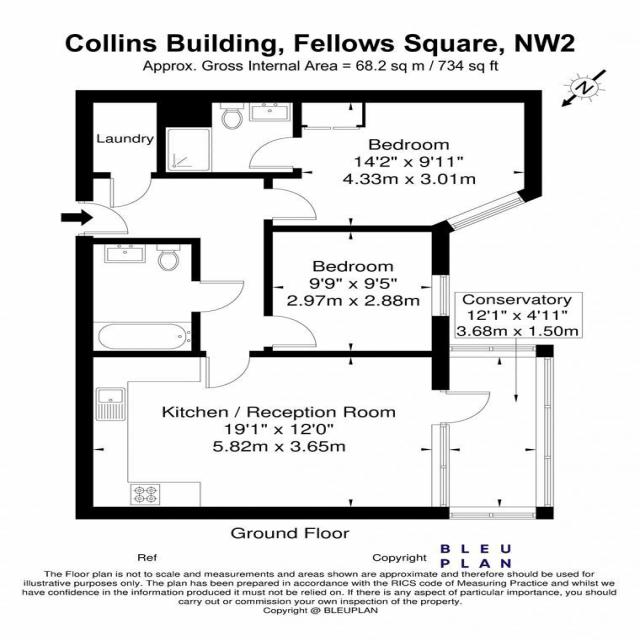DOOR: (431, 387, 494, 425), (262, 184, 321, 224), (200, 350, 258, 390), (190, 279, 247, 315), (246, 135, 304, 169), (263, 314, 319, 348), (106, 171, 155, 208)
ROOM: (75, 350, 500, 520), (239, 89, 541, 232), (263, 225, 450, 358)
WINDOW: (441, 189, 530, 233), (534, 356, 557, 509), (429, 423, 454, 510), (446, 505, 538, 523), (447, 342, 538, 359), (429, 272, 452, 318)
